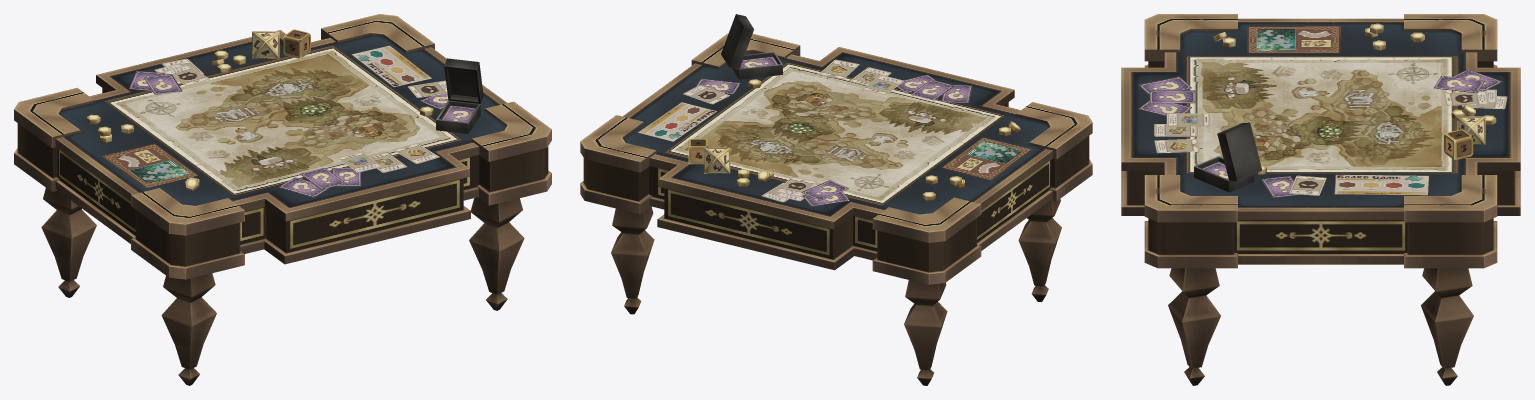
File: my_event058_boardgametable.glb
3 renders of one model, left to right at view 1: azimuth 30°, elevation 25°; view 2: azimuth 150°, elevation 25°; view 3: azimuth 270°, elevation 25°, orthographic. The views are drawn at different scales.
Parts seen in each view (by area): view 1: my_event058_boardgametable; view 2: my_event058_boardgametable; view 3: my_event058_boardgametable.
Part boxes in pixels (box(x1,y1,x2,y2)): my_event058_boardgametable: box(14, 14, 551, 385); my_event058_boardgametable: box(580, 14, 1092, 385); my_event058_boardgametable: box(1121, 14, 1520, 385).
Size of the model in its own units: 0.00943 by 0.00559 by 0.00809.
Materials: 1 (1 with a texture image).
